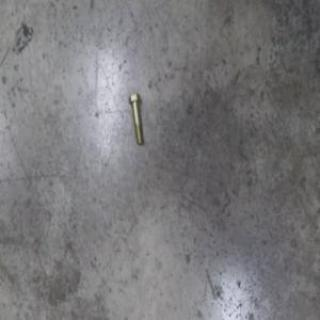Bolttrack_idkeyframe: (127, 91, 142, 144)
